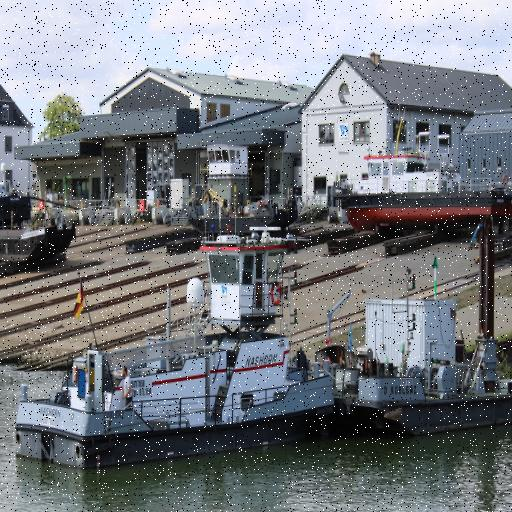tugboat: (13, 222, 345, 483)
